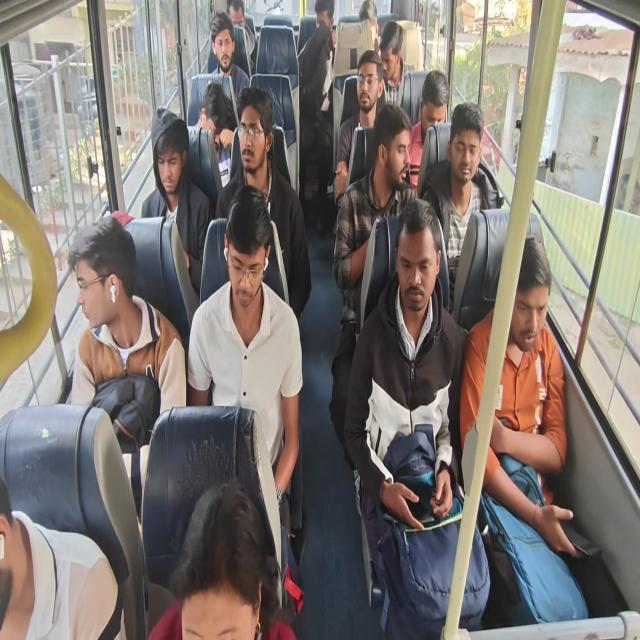person: (343, 197, 491, 638), (458, 234, 588, 626), (187, 185, 303, 538), (67, 214, 187, 520), (329, 102, 418, 464), (148, 478, 296, 638), (214, 86, 312, 319), (0, 476, 124, 639), (420, 100, 502, 310), (140, 106, 212, 296), (296, 0, 336, 232), (333, 50, 388, 206), (407, 68, 449, 188), (207, 10, 250, 124), (194, 81, 237, 187), (378, 20, 414, 108), (226, 0, 258, 77), (358, 0, 382, 55)
